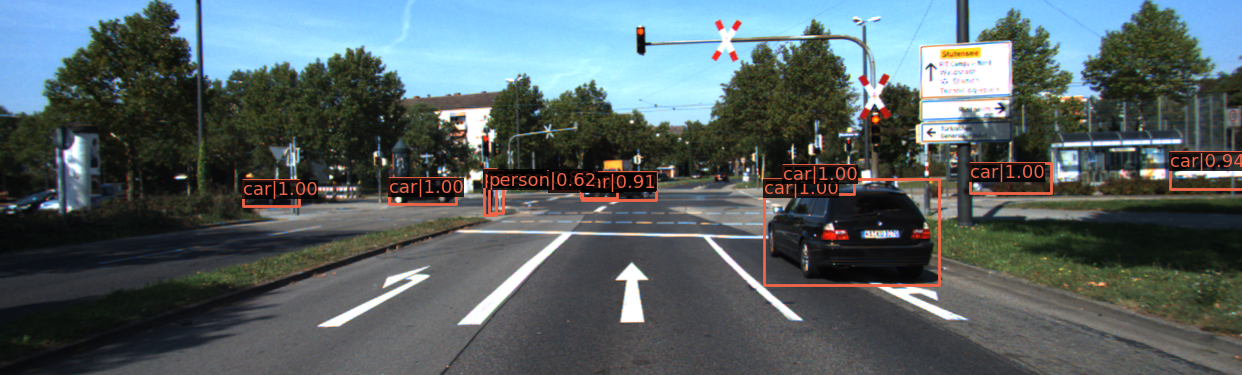car: (764, 183, 940, 289), (951, 164, 1044, 189), (581, 174, 655, 201), (779, 167, 852, 194), (392, 179, 457, 206), (243, 182, 302, 207), (551, 176, 577, 191), (587, 176, 610, 191)
person: (481, 171, 496, 217)
